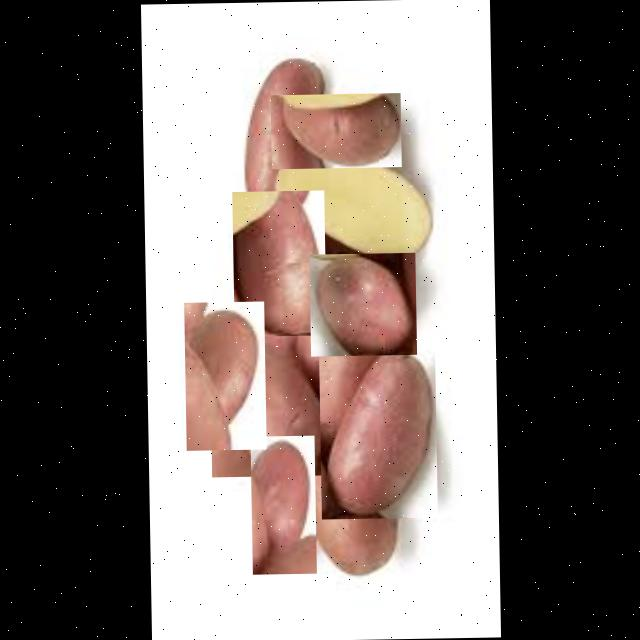Defected potato: (281, 410, 411, 576), (318, 348, 438, 518), (210, 334, 326, 476), (232, 188, 326, 332), (184, 300, 266, 449), (244, 54, 325, 200), (308, 252, 416, 356), (270, 91, 401, 168), (250, 434, 316, 573)
